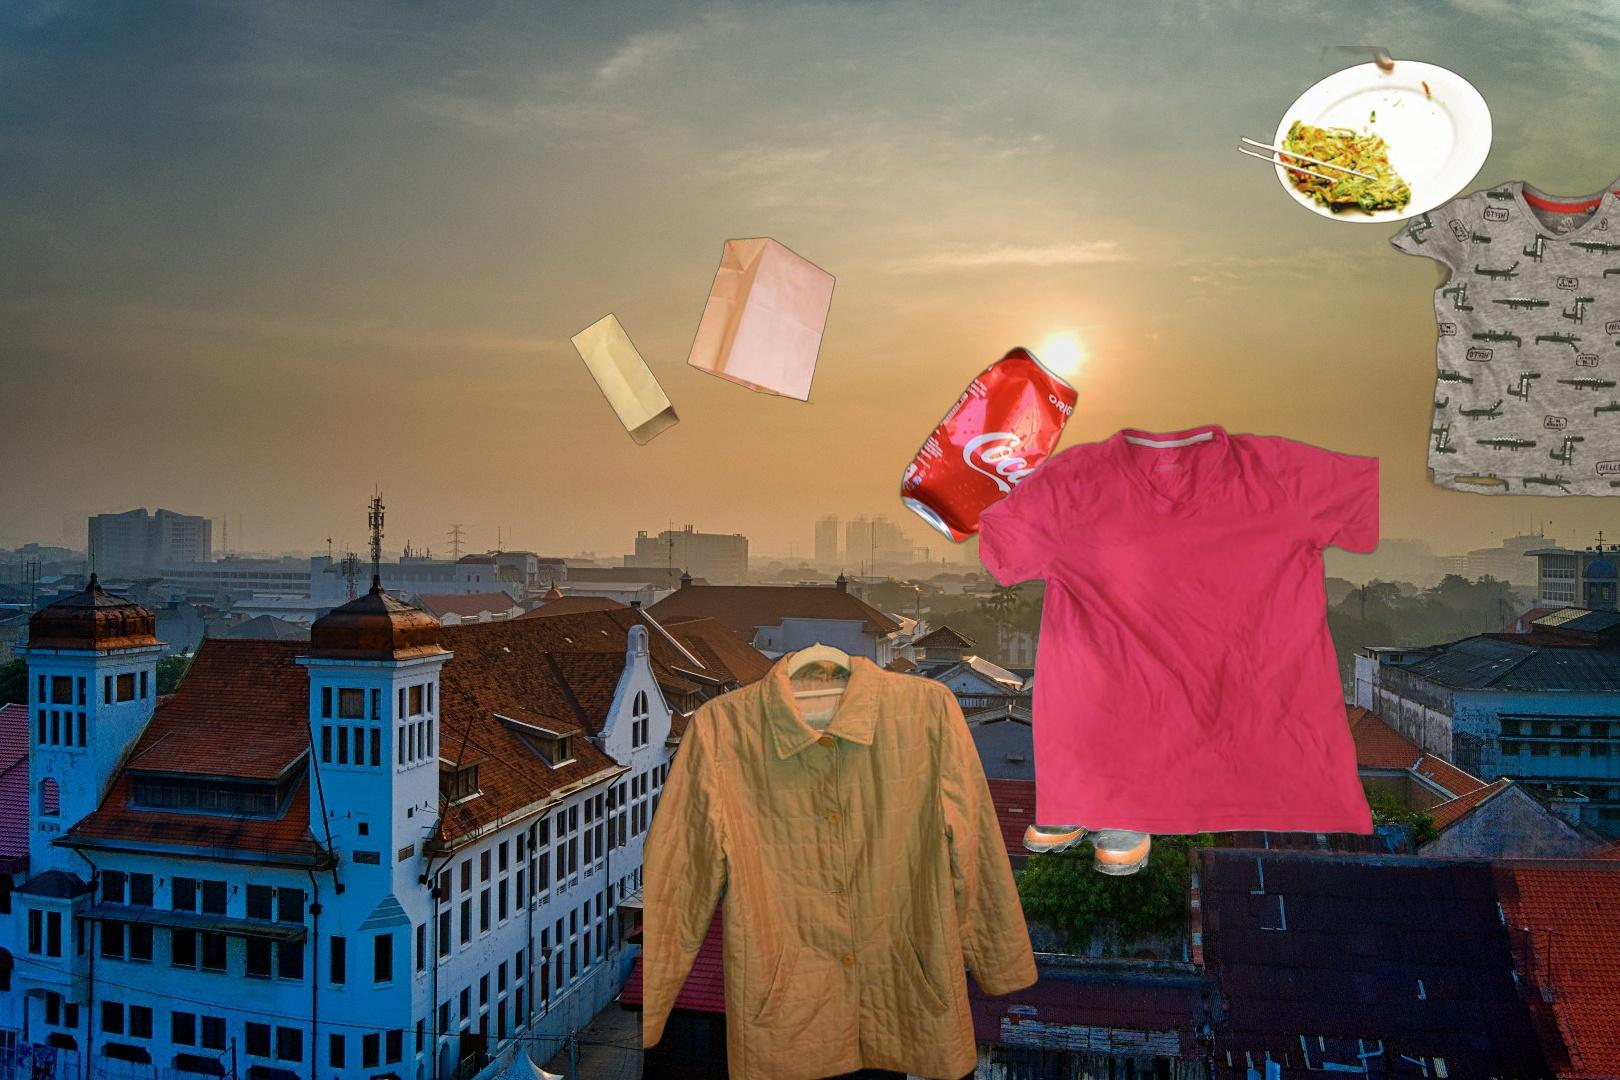biological: (1100, 46, 1495, 225)
clothes: (642, 633, 1043, 1080), (979, 419, 1379, 849), (1386, 157, 1620, 507)
metal-cans: (896, 341, 1082, 548)
paper-bag: (568, 209, 838, 447)
shoes: (1019, 626, 1154, 876)
